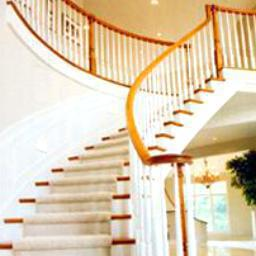Escaleras: (1, 17, 206, 256)
Matera: (232, 151, 256, 256)
